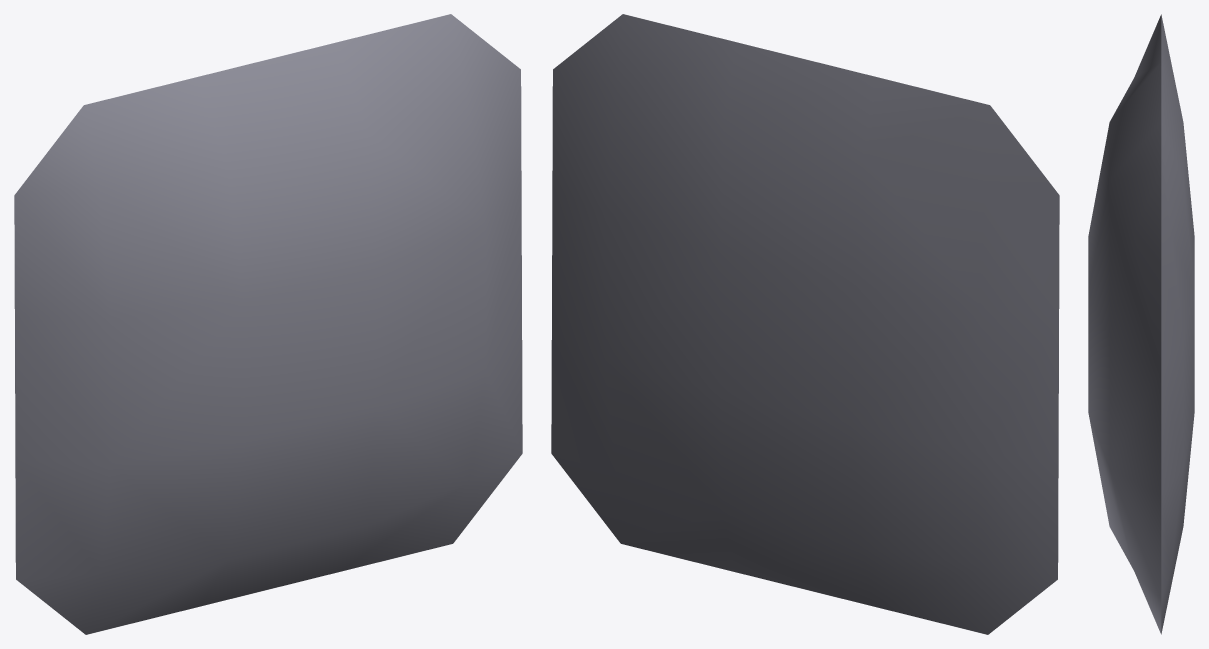
The model's file is GreyCushion.glb.
The picture shows the model from 3 angles, left to right: view 1: azimuth 30°, elevation 25°; view 2: azimuth 150°, elevation 25°; view 3: azimuth 270°, elevation 25°; orthographic projection. The views are drawn at different scales.
Parts seen in each view (by area): view 1: cushion; view 2: cushion; view 3: cushion.
Part boxes in pixels (x1,y1,x2,y2): cushion: (14,14,522,634); cushion: (551,14,1059,634); cushion: (1088,14,1194,634).
Bounding box in the file's own units: 0.6322 × 0.6322 × 0.1306.
1 material, 1 textured.
